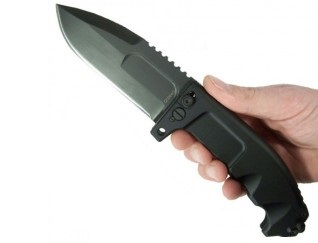knife: (51, 1, 229, 160)
